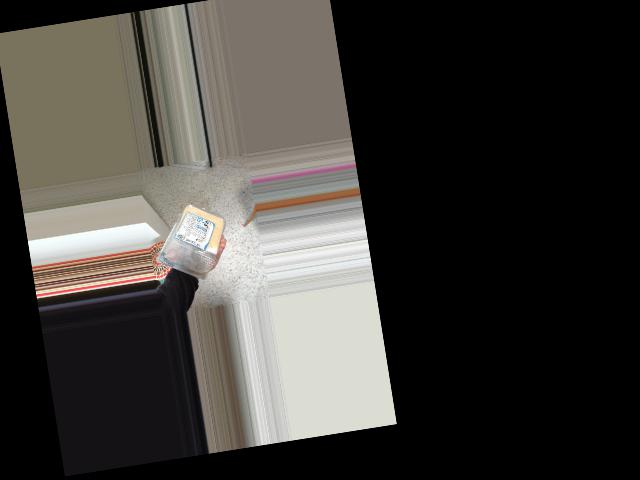cheese: (154, 197, 222, 275)
